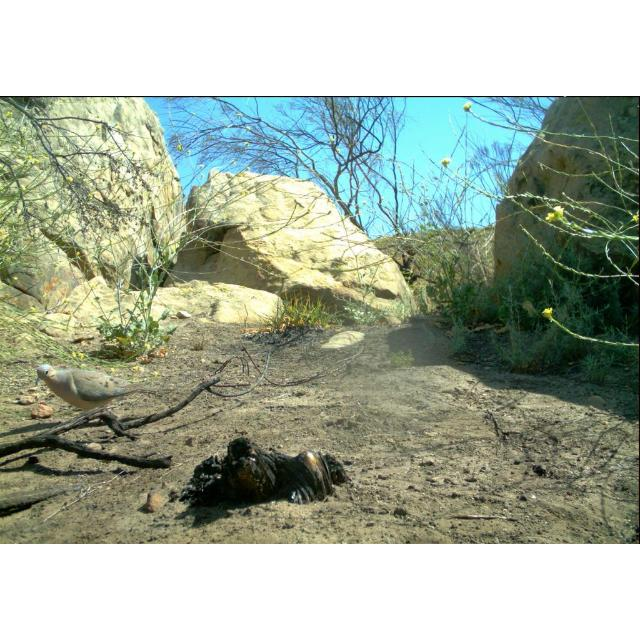animals: (34, 364, 140, 414)
